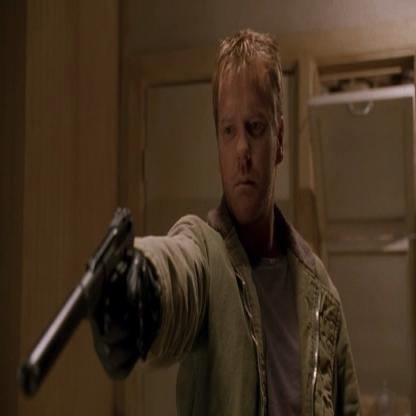gun: (5, 178, 148, 398)
